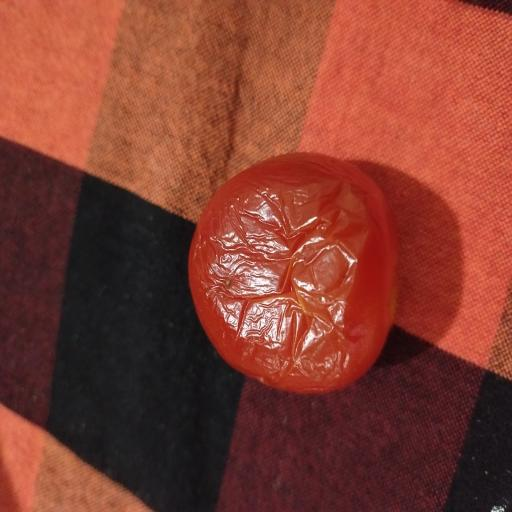spoiled: (190, 154, 396, 392)
